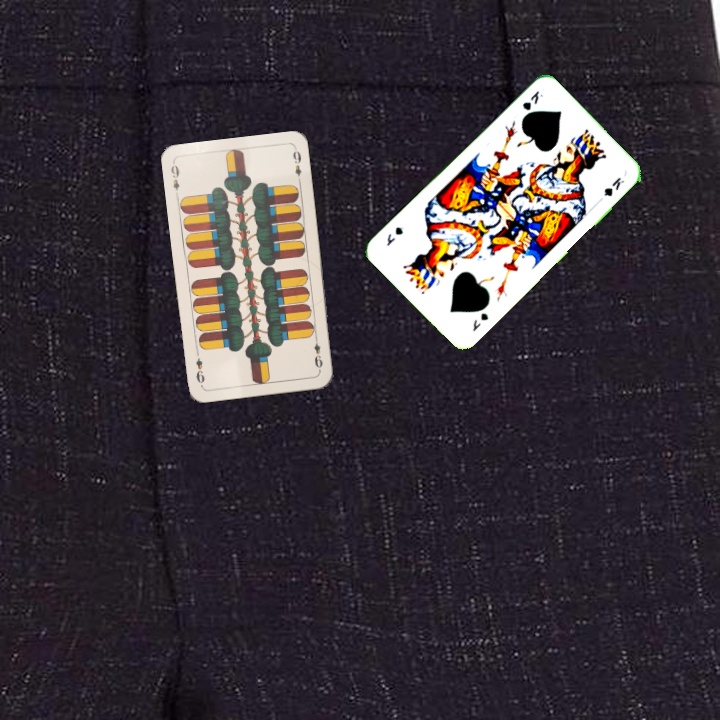E9: (167, 159, 182, 200), (310, 333, 325, 373)
GK: (518, 86, 545, 113), (468, 309, 491, 334)
